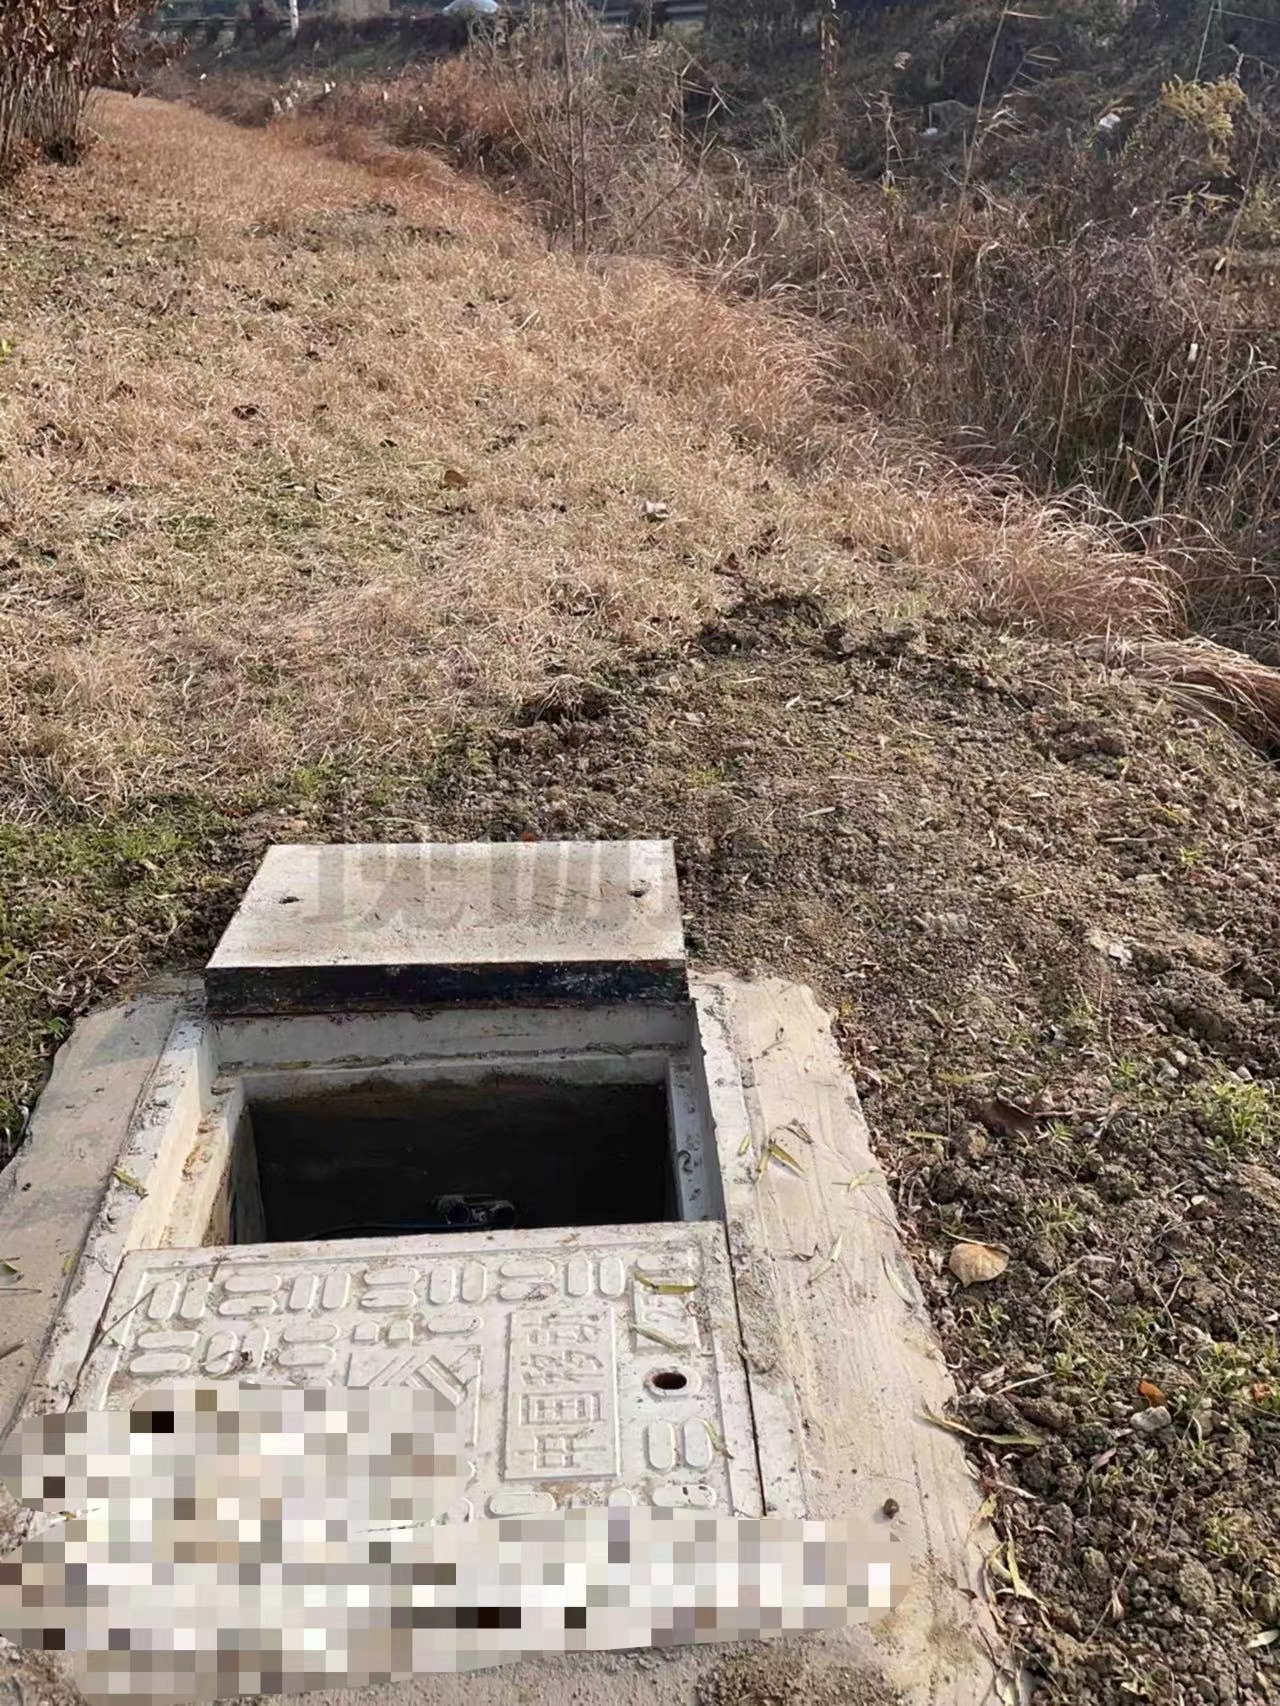well: (0, 842, 824, 1697)
